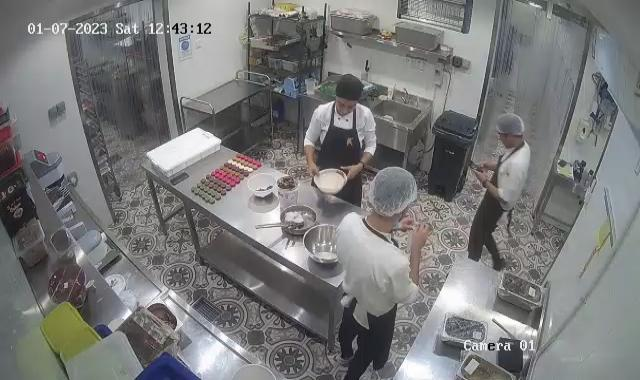hairnet: (370, 166, 415, 224), (493, 112, 524, 144)
no_hairnet: (332, 73, 362, 111)
